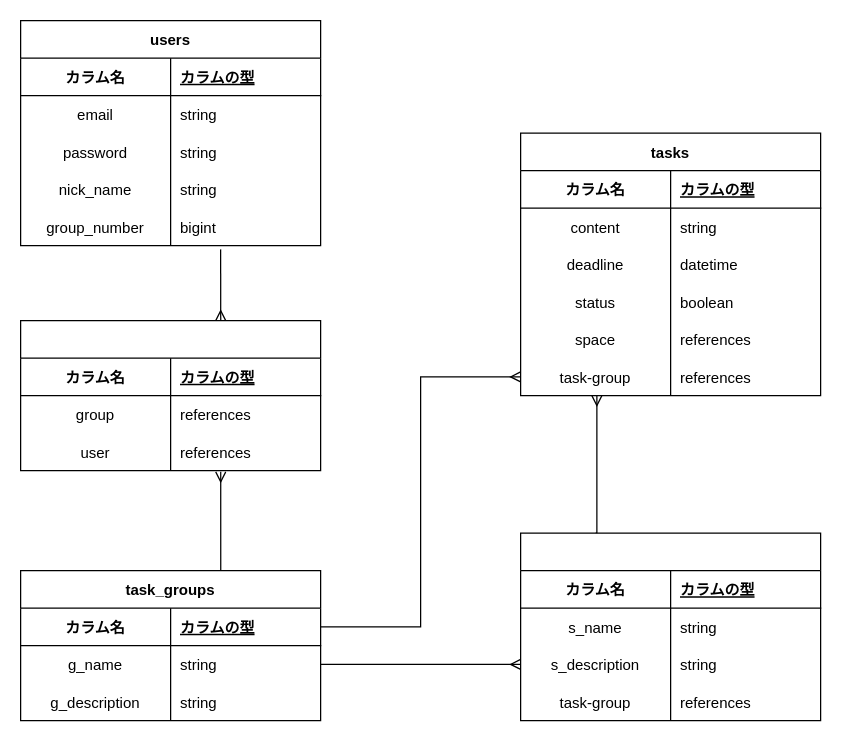
Some shapes in this 841 by 741 pixel diagram are drawn without their labels. Each missing label, with the box of its shape:
spaces: (519, 532, 821, 721)
task_group_users: (19, 319, 321, 471)
